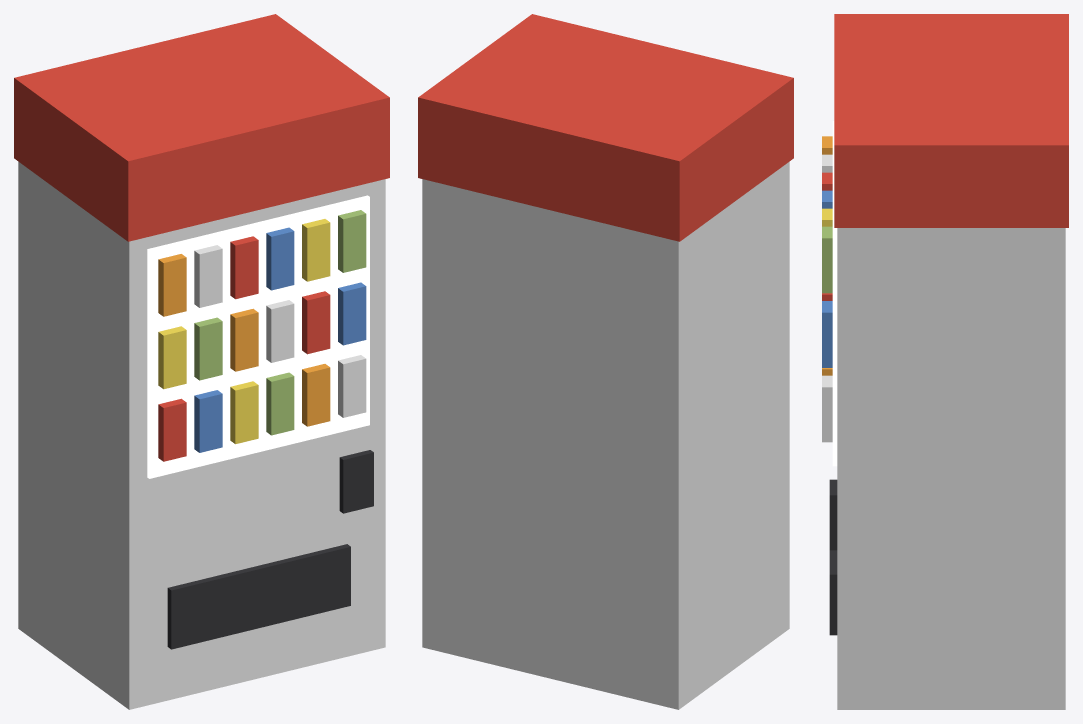
File: jihanki.glb
The picture shows the model from 3 angles, left to right: view 1: azimuth 30°, elevation 25°; view 2: azimuth 150°, elevation 25°; view 3: azimuth 270°, elevation 25°; orthographic projection. The views are drawn at different scales.
Parts seen in each view (by area): view 1: jihanki; view 2: jihanki; view 3: jihanki.
Boxes of the visible parts, box(x1,y1,x2,y2) form: jihanki: box(14, 14, 389, 709); jihanki: box(418, 14, 793, 709); jihanki: box(822, 14, 1068, 709).
Bounding box in the file's own units: 1.02 × 2.05 × 0.81.
